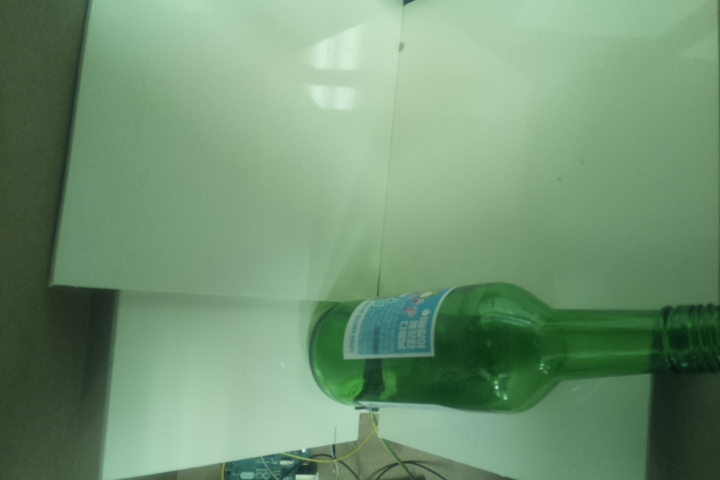soju: (308, 282, 720, 415)
